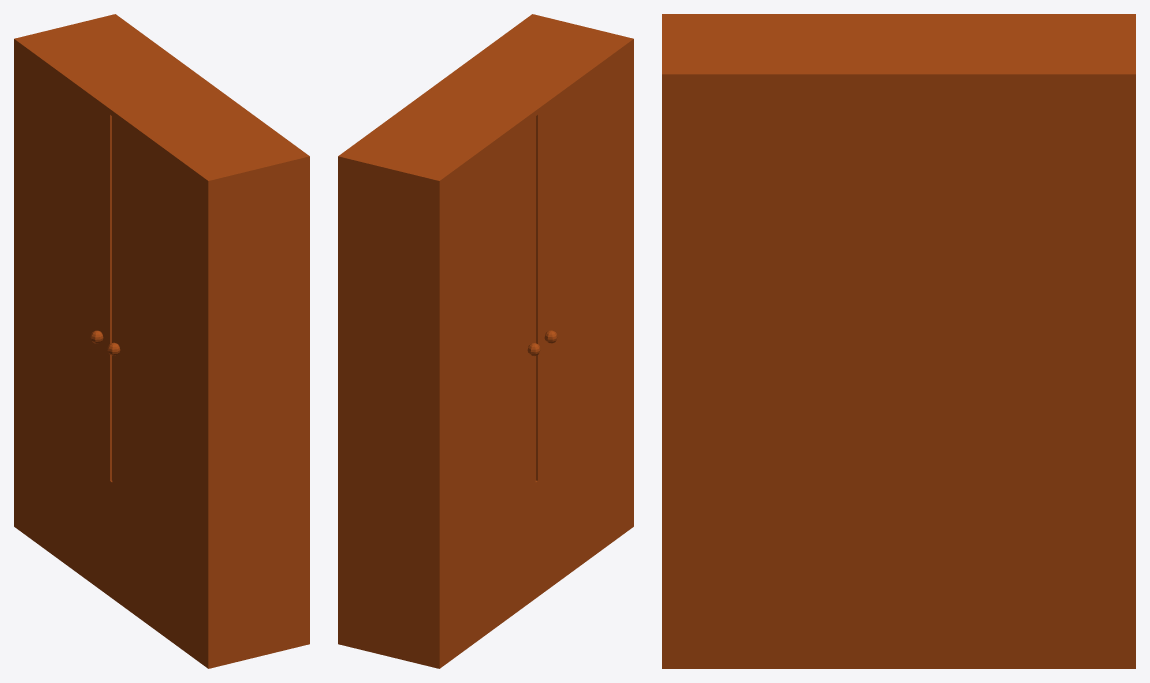
Rendered from armario.FBX.
The picture shows the model from 3 angles, left to right: view 1: azimuth 30°, elevation 25°; view 2: azimuth 150°, elevation 25°; view 3: azimuth 270°, elevation 25°; orthographic projection. The views are drawn at different scales.
Parts seen in each view (by area): view 1: Cube; view 2: Cube; view 3: Cube.
Boxes of the visible parts, x1,y1,x2,y2 form: Cube: (14,14,309,668); Cube: (338,14,633,668); Cube: (662,14,1135,668).
Bounding box in the file's own units: 80.32 × 331 × 239.
